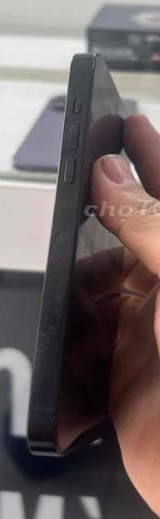scratch: (24, 293, 94, 387), (69, 59, 84, 91)
